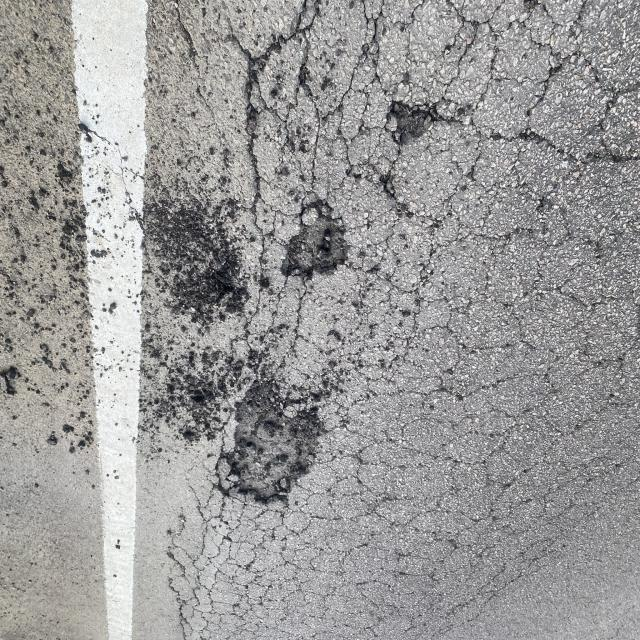Pothole: (210, 157, 371, 540)
